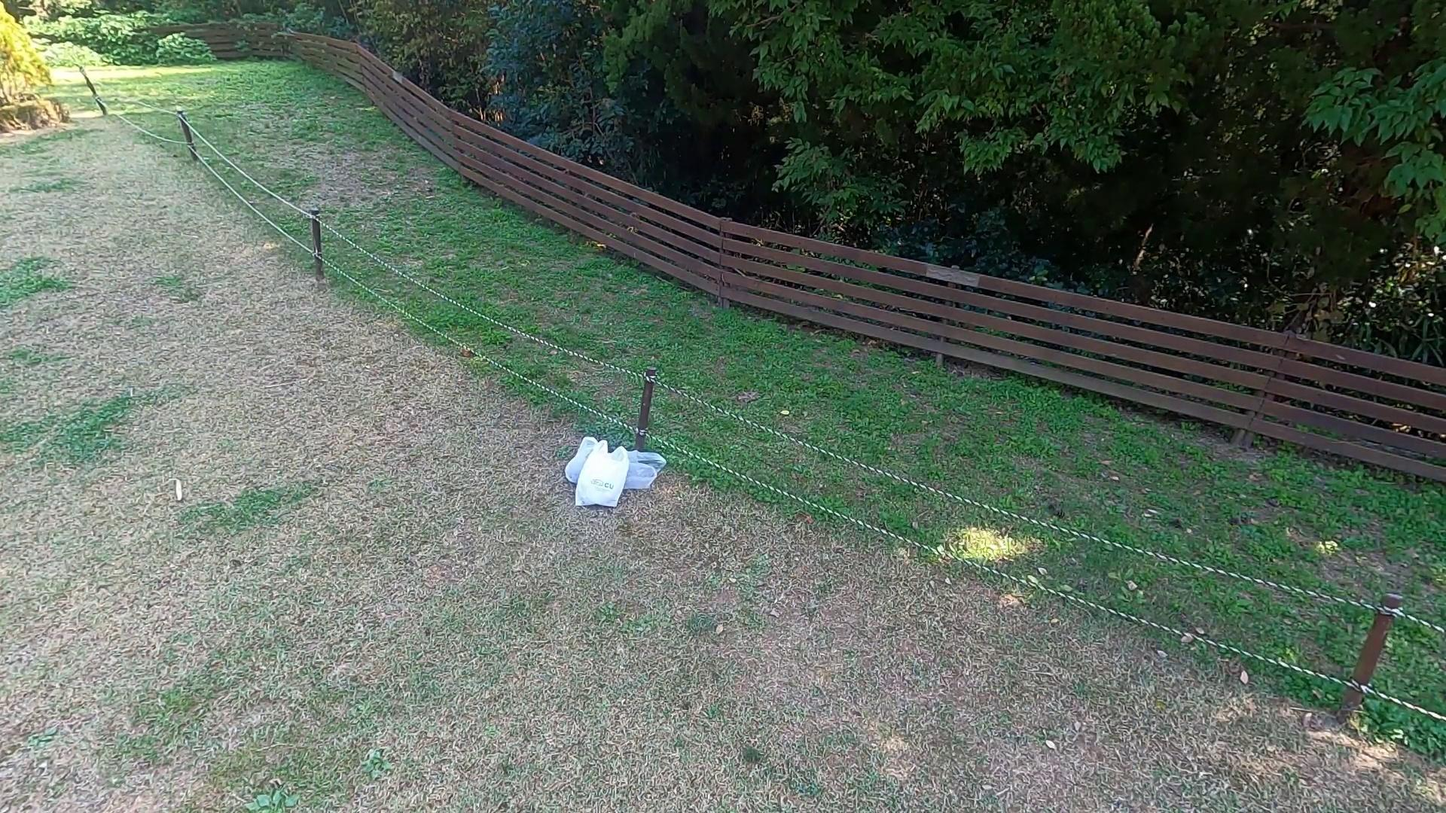trash: (598, 437, 668, 497), (573, 437, 629, 509), (558, 433, 611, 490)
